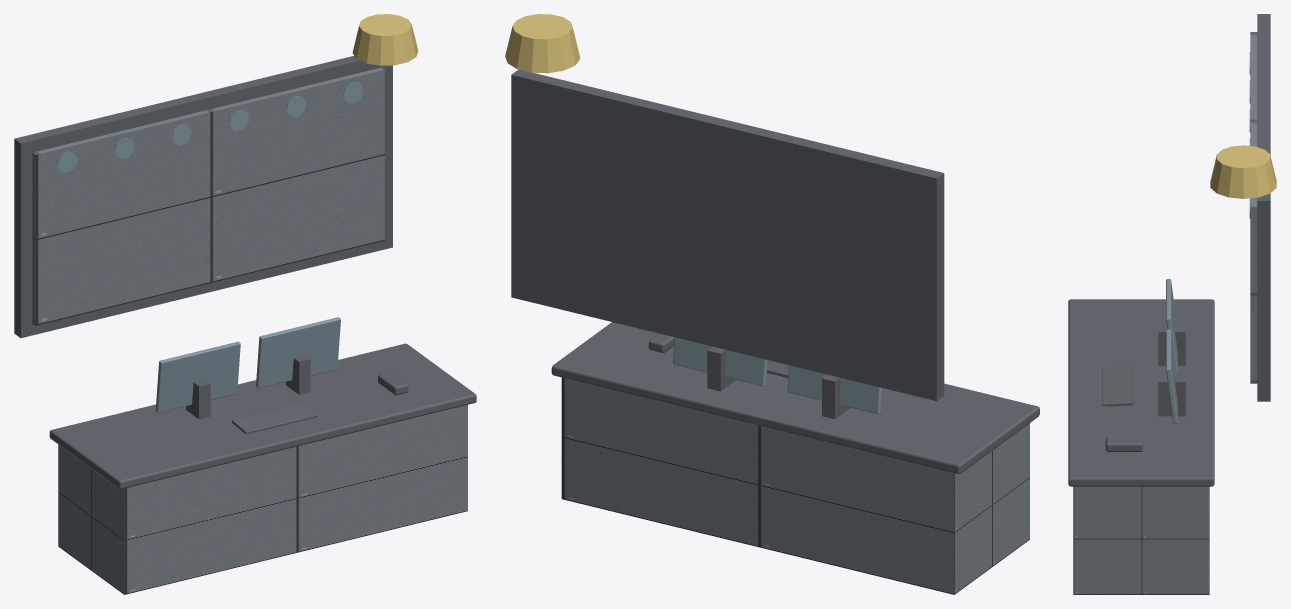
The model's file is fire-and-emergency-services-watch-room-desk-f8766818__29895.glb.
The picture shows the model from 3 angles, left to right: view 1: azimuth 30°, elevation 25°; view 2: azimuth 150°, elevation 25°; view 3: azimuth 270°, elevation 25°; orthographic projection. The views are drawn at different scales.
Parts seen in each view (by area): view 1: watch-room-desk; view 2: watch-room-desk; view 3: watch-room-desk.
Part boxes in pixels (left/top/right/bottom): watch-room-desk: left=14, top=14, right=476, bottom=594; watch-room-desk: left=505, top=14, right=1039, bottom=594; watch-room-desk: left=1068, top=14, right=1276, bottom=594.
Size of the model in its own units: 2.7 by 2.84 by 1.22.
5 materials, 1 textured.
